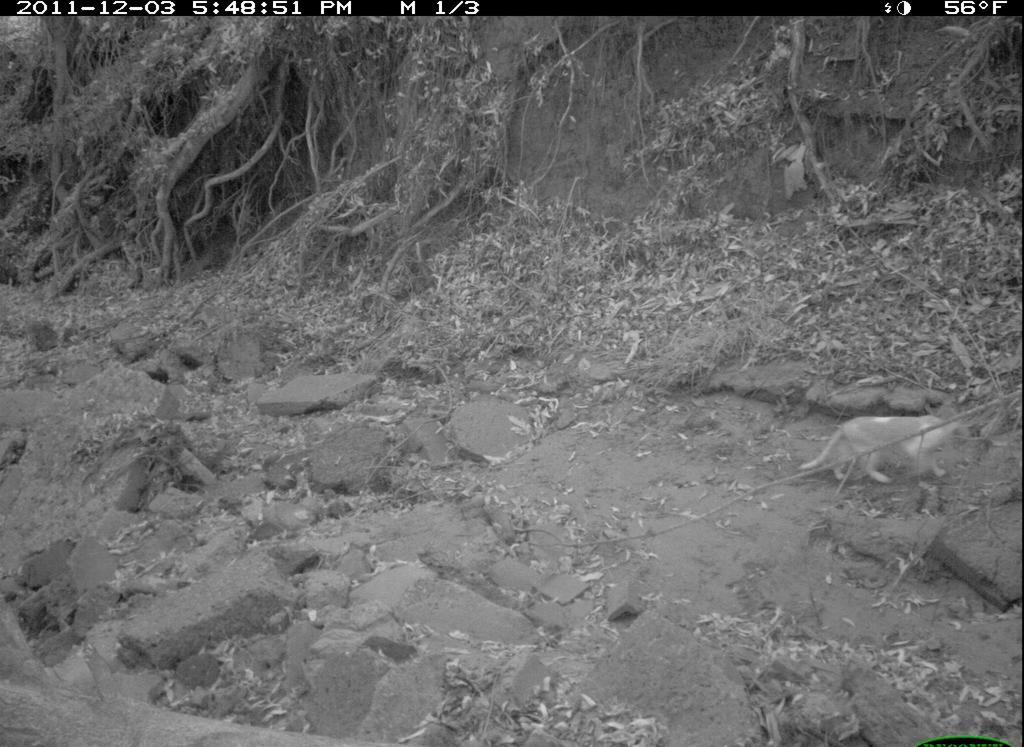cat: (802, 393, 971, 496)
